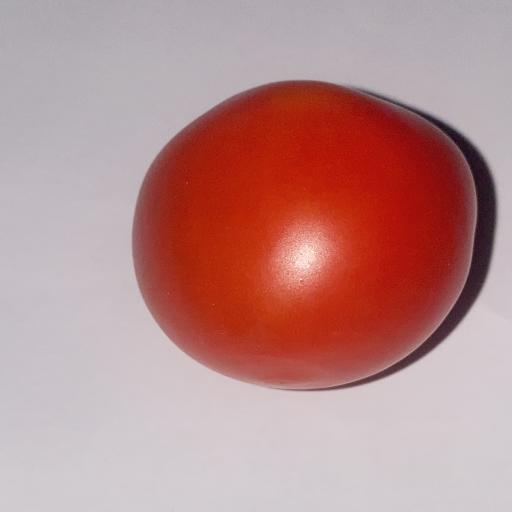ripe: (133, 82, 476, 389)
